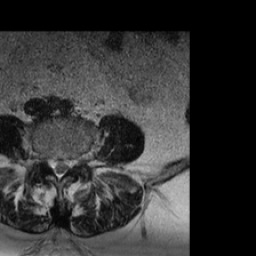CCS_normal: (55, 149, 62, 186)
LFS_normal: (70, 149, 79, 173)
LLS_normal: (62, 150, 70, 177)
RFS_normal: (38, 145, 46, 171)
RLS_normal: (46, 149, 55, 176)
